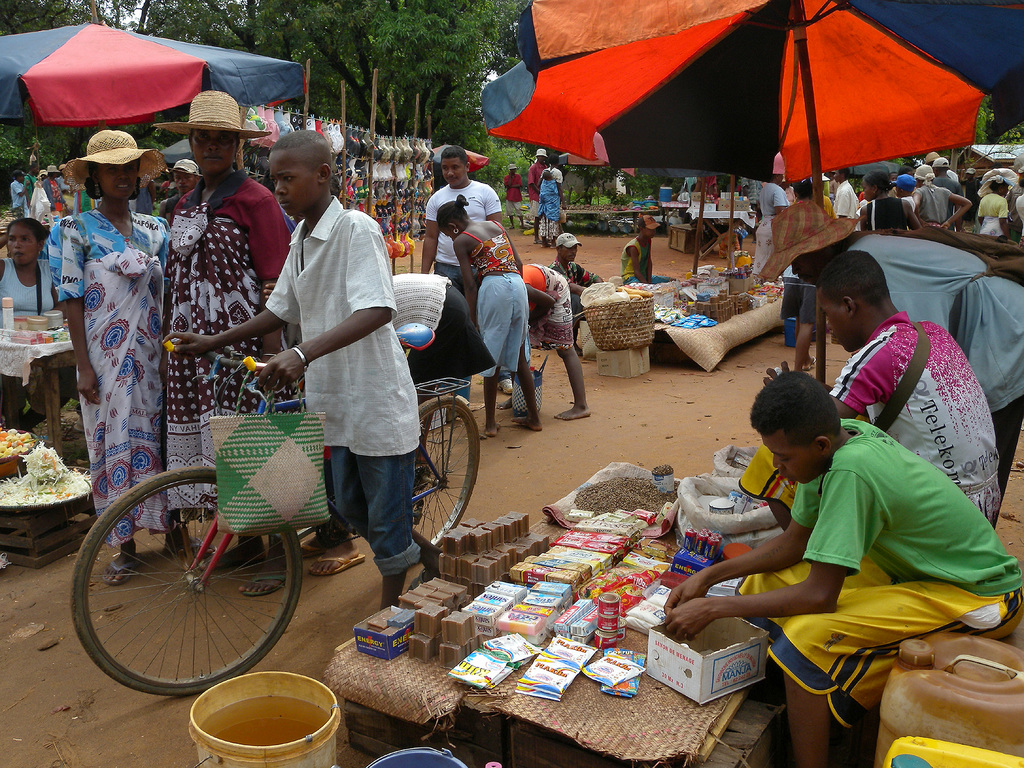Person: (662, 371, 1024, 764), (174, 129, 454, 606), (738, 248, 1004, 527), (419, 141, 602, 428), (757, 148, 1024, 275), (0, 215, 55, 428), (505, 147, 573, 243), (617, 207, 671, 287), (7, 164, 66, 220)
